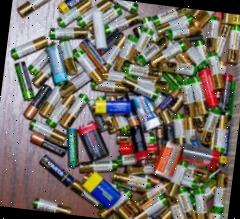electronic: (24, 76, 59, 130), (9, 31, 57, 65), (116, 72, 170, 102), (137, 27, 169, 68), (154, 56, 204, 82), (88, 94, 136, 120), (116, 30, 138, 77), (201, 14, 223, 49)
